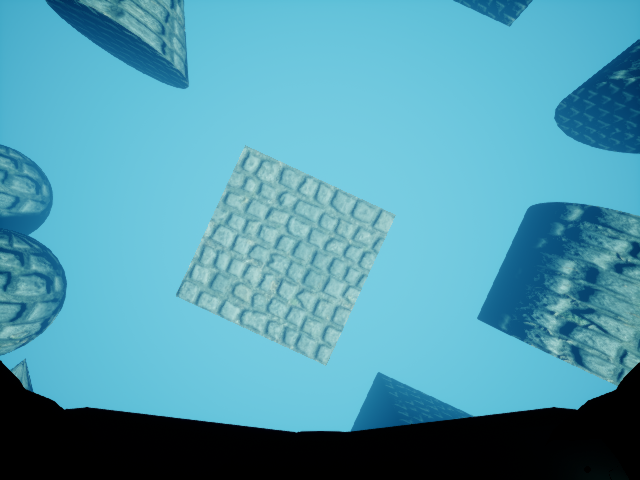box: (160, 137, 414, 381)
